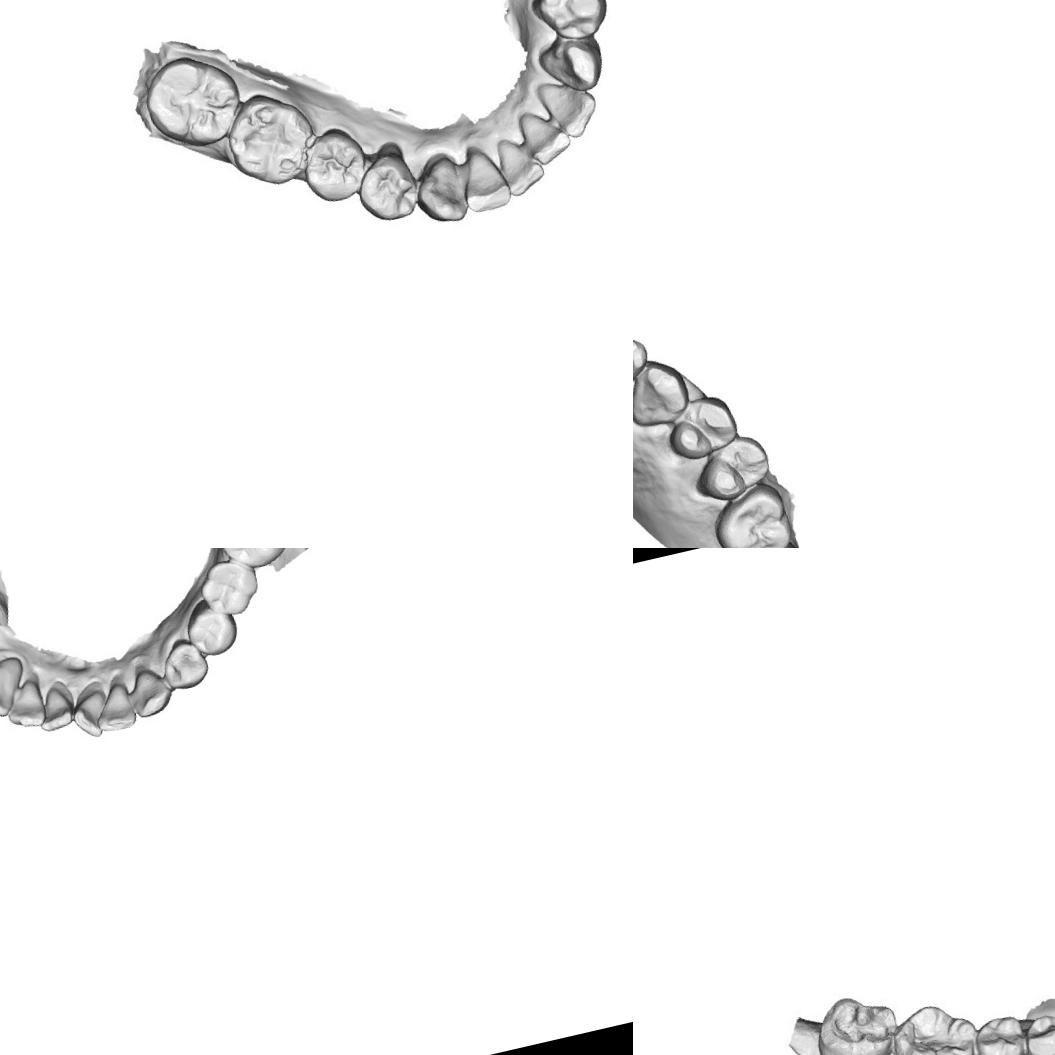canine: (538, 32, 616, 99), (416, 148, 472, 225), (633, 356, 692, 426), (125, 664, 174, 720), (0, 653, 34, 724)
incisor: (456, 133, 516, 215), (537, 73, 604, 145), (494, 132, 550, 204), (519, 104, 575, 171), (88, 679, 140, 736), (0, 676, 51, 734), (31, 681, 81, 735), (66, 686, 114, 742), (633, 325, 655, 396)
inlay: (825, 992, 895, 1055)
molar: (214, 85, 321, 195), (136, 49, 245, 156), (885, 996, 983, 1055), (712, 486, 799, 548), (193, 552, 266, 622), (209, 548, 299, 576)
premolar: (296, 125, 377, 207), (352, 152, 427, 226), (670, 392, 742, 460), (700, 435, 770, 499), (178, 594, 243, 662), (528, 0, 619, 48), (964, 1006, 1036, 1055), (156, 633, 213, 694), (1020, 1009, 1055, 1055)
